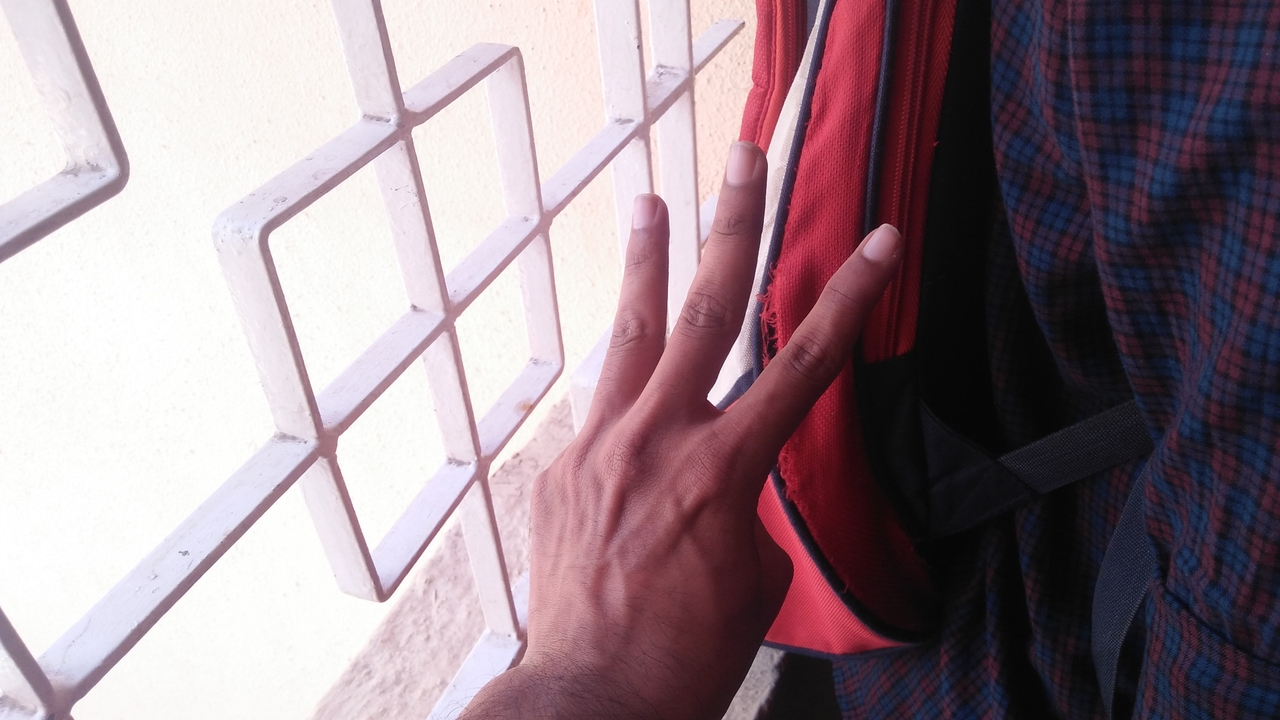fingertip: (848, 212, 910, 274), (616, 182, 676, 240), (716, 134, 768, 192)
